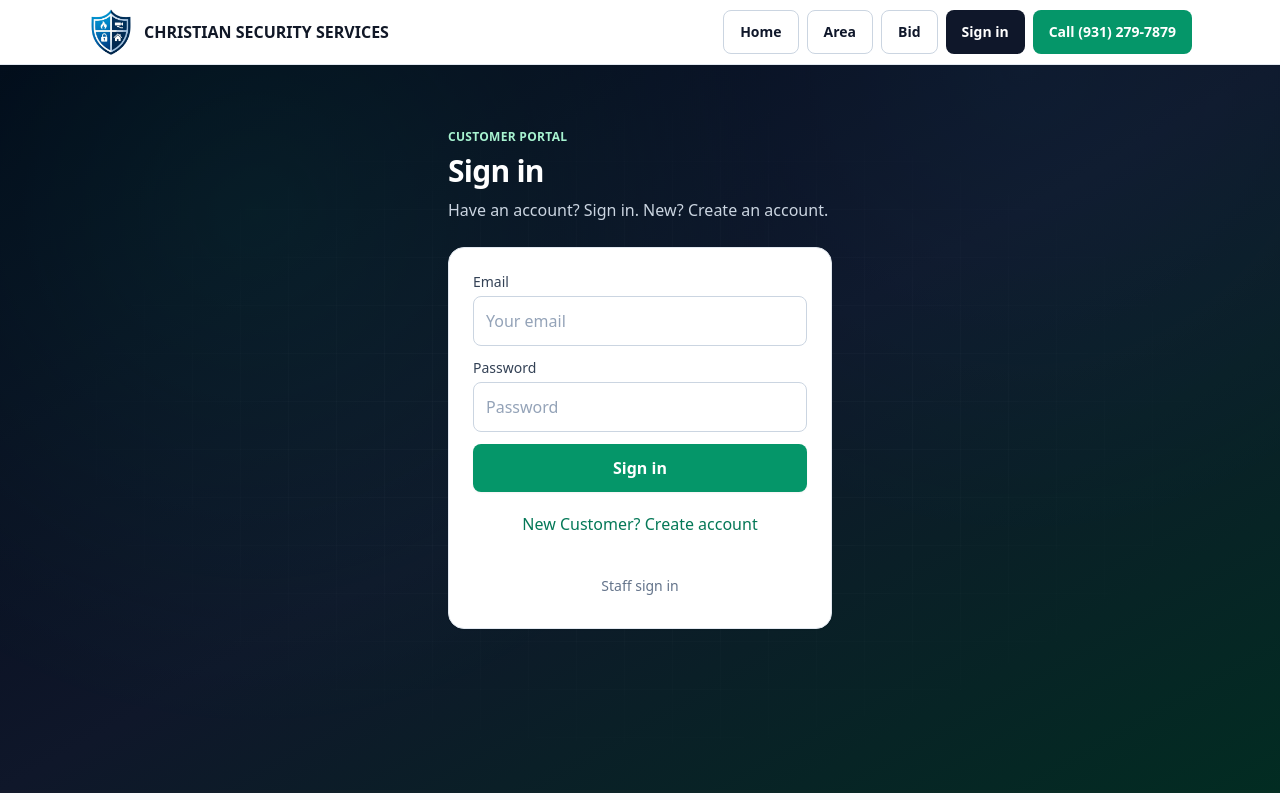
Login Component › Login Functionality › should handle 403 error (access denied)
Click the button "Staff sign in". click: (640, 586)
box: [473,568,807,604]
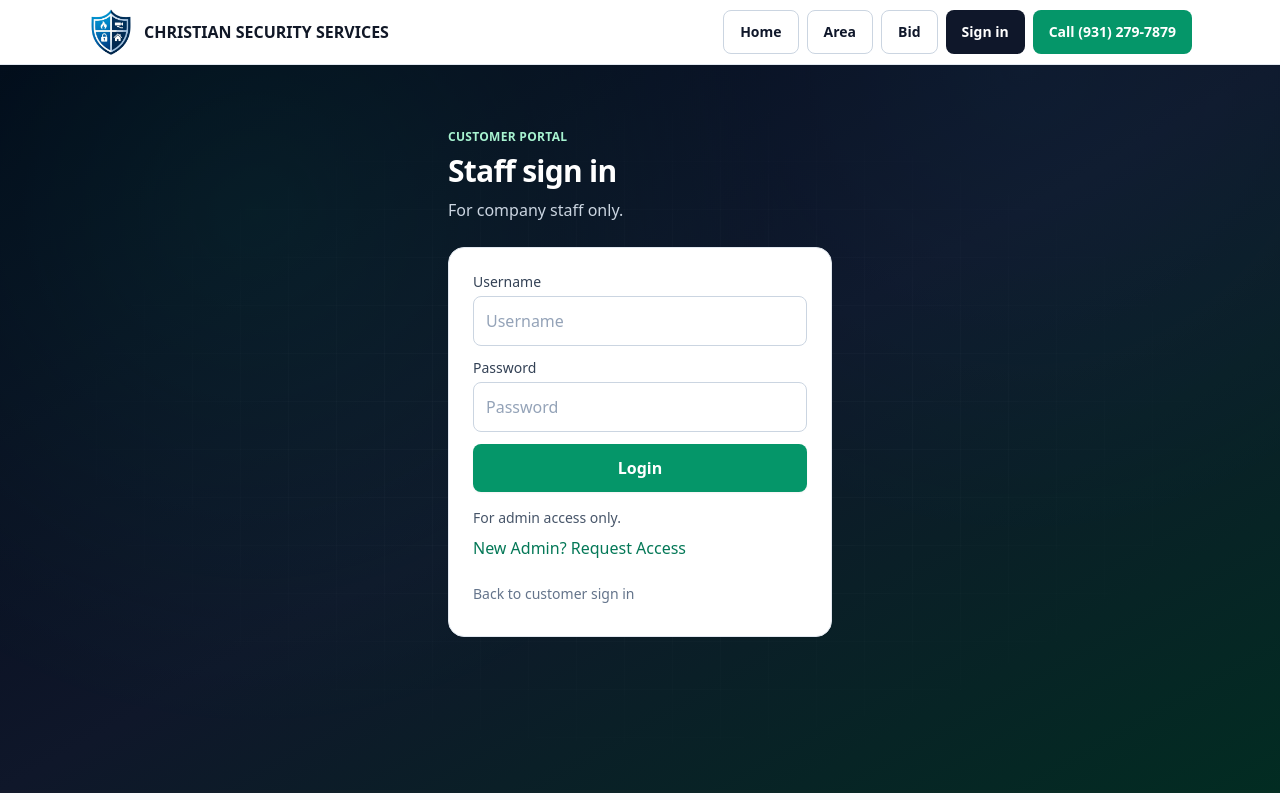
Type "pendinguser" into the field with test id "admin-login-username". click: (640, 321)
box: [473,296,807,346]
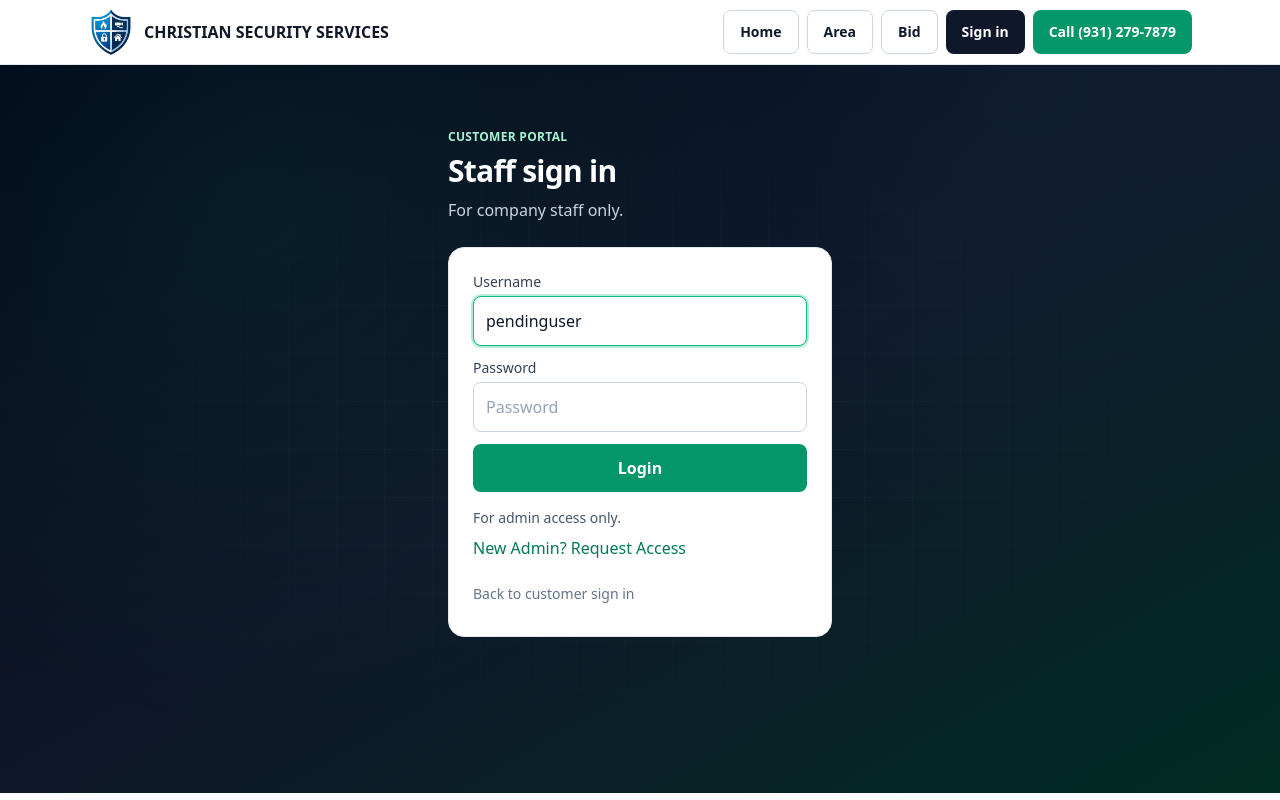
Type "password" into the password field with test id "admin-login-password". click: (640, 407)
box: [473,382,807,432]
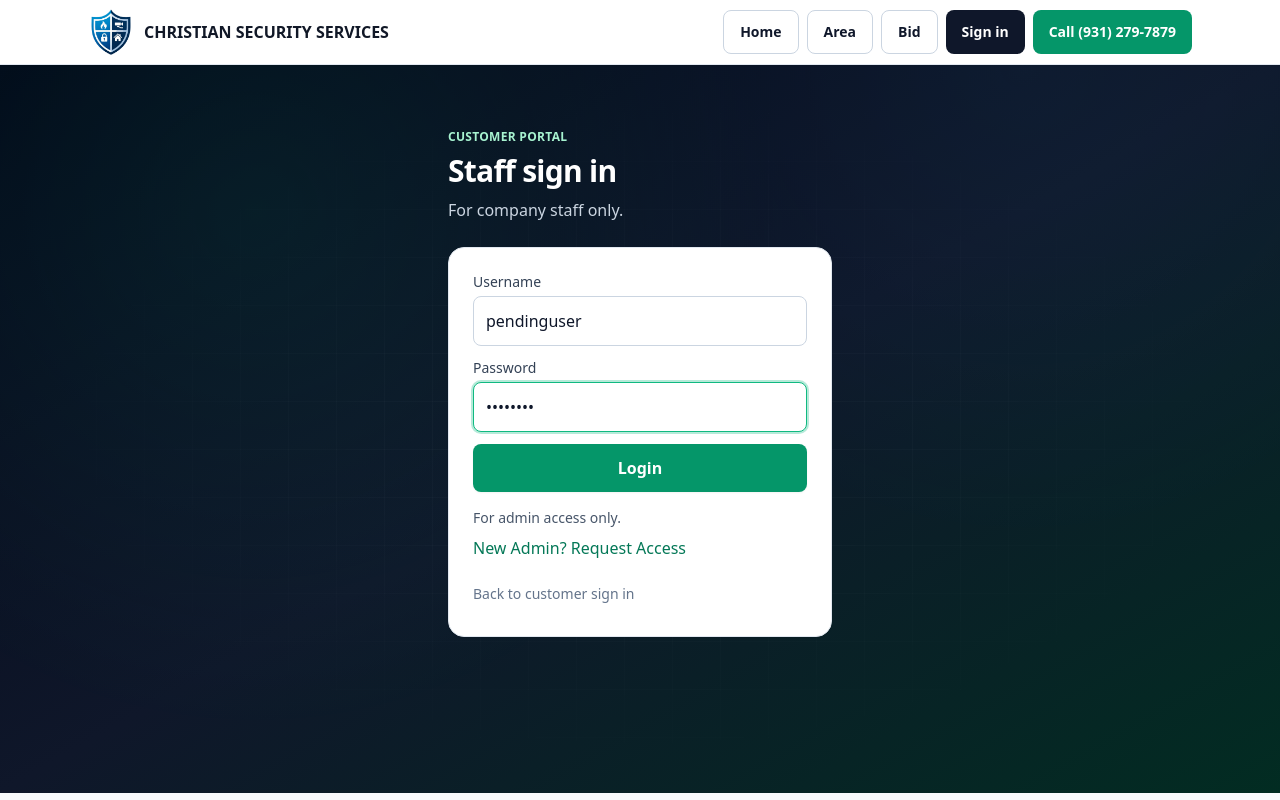
Click the button "Login". click: (640, 468)
box: [473,444,807,492]
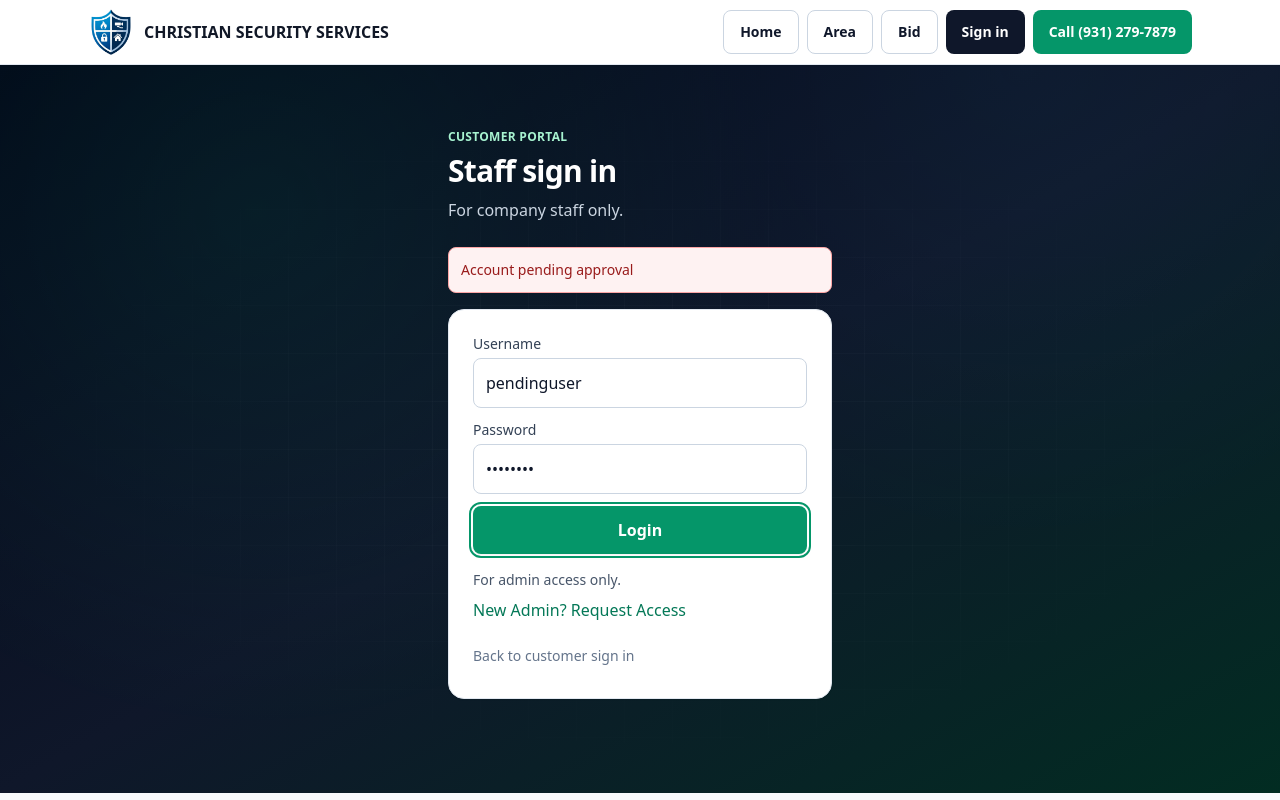
Check: the message with test id "form-status" reads "Account pending approval", box [461,260,634,279]
